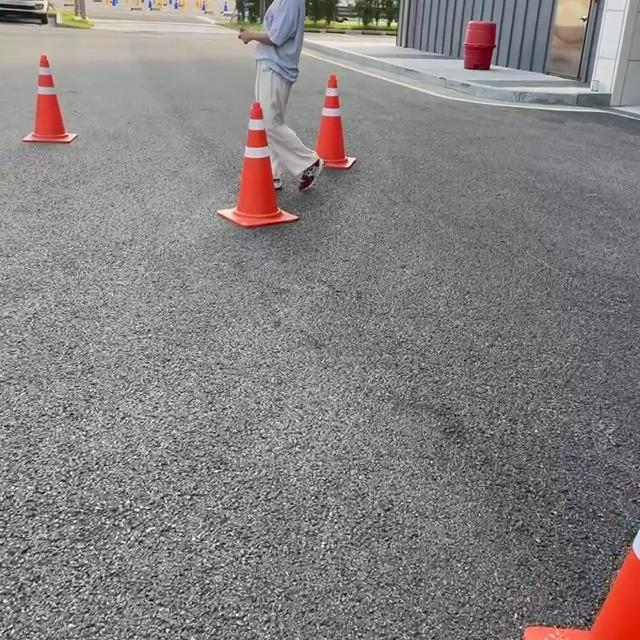fallen_object: (501, 451, 640, 630), (170, 93, 300, 255), (283, 60, 382, 194), (0, 22, 101, 150)
